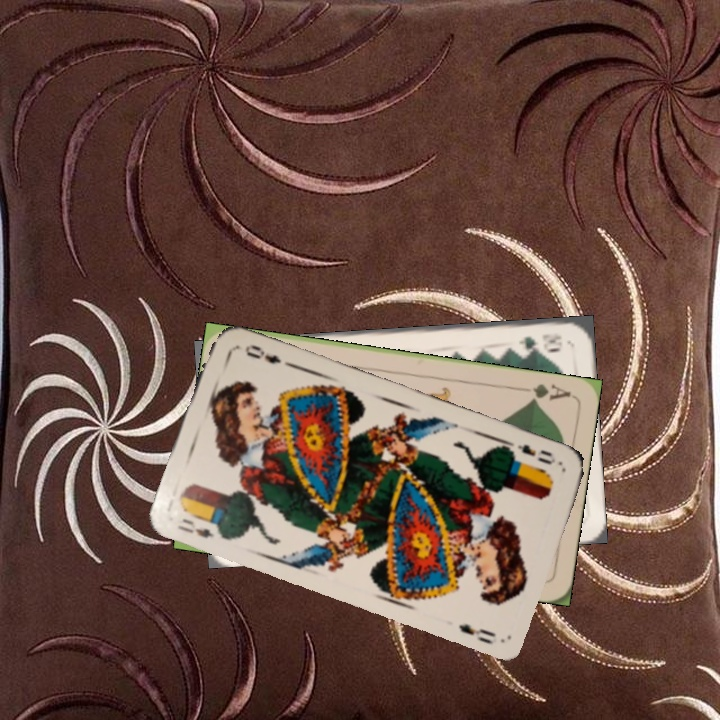EO: (505, 440, 558, 467), (173, 514, 217, 541)
G10: (514, 329, 564, 353)
GA: (514, 379, 574, 405)
